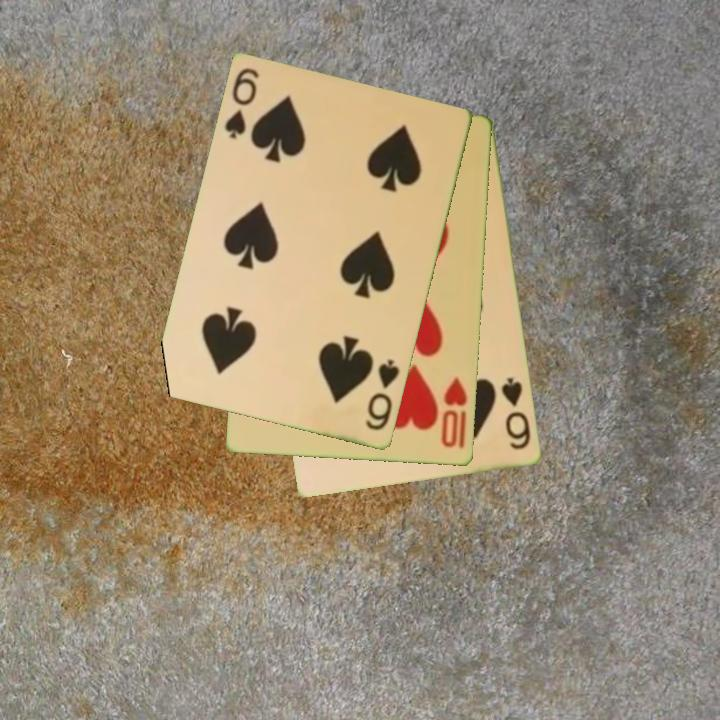10h: (438, 374, 470, 451)
6s: (221, 64, 263, 142), (362, 356, 403, 434), (498, 374, 534, 453)
